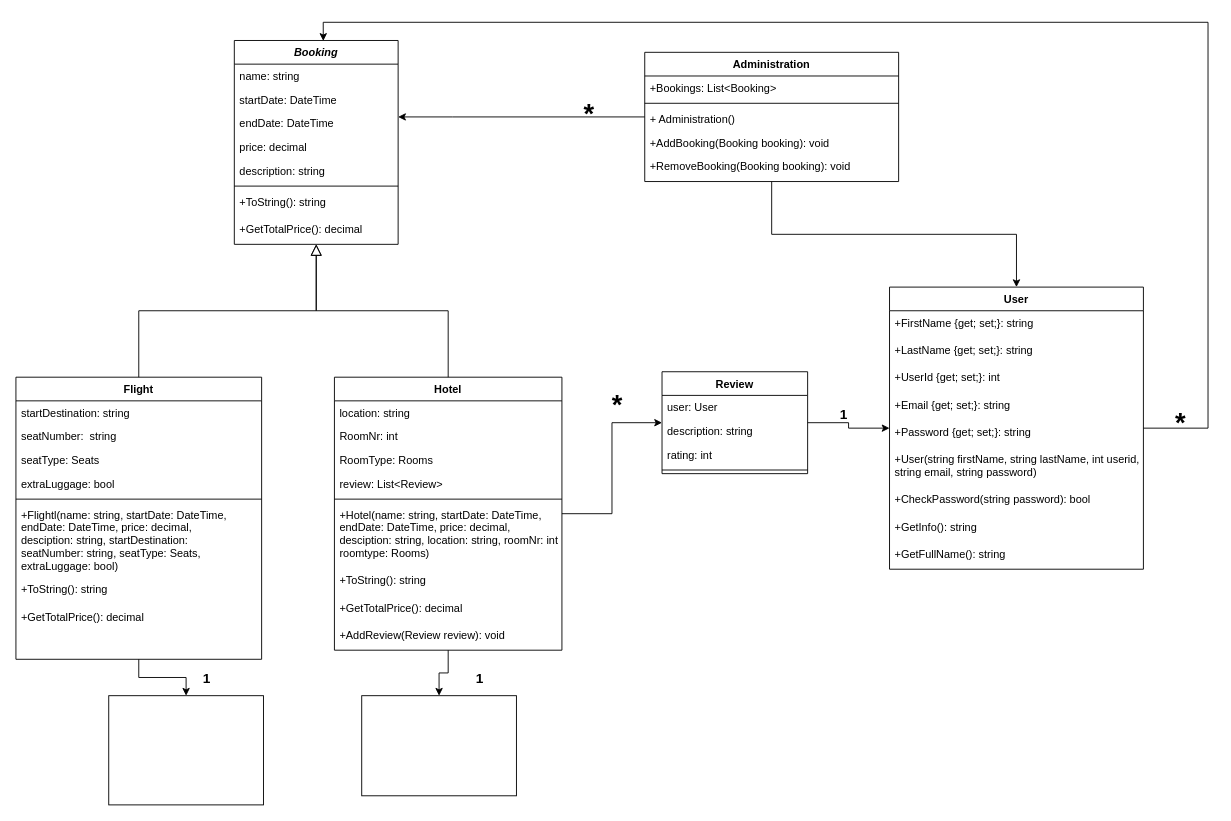
Image size: 1231x821. Some labels were removed from this diagram. Here are the shapes that lost their labels. From the top down, the centre of each, then its label:
(x=185, y=750): << enumeration >> Seats ECONOMY PREMIUM ECONOMY BUSINESS FIRST CLASS
(x=438, y=745): << enumeration >> Rooms SINGLE NORMAL FAMILY
